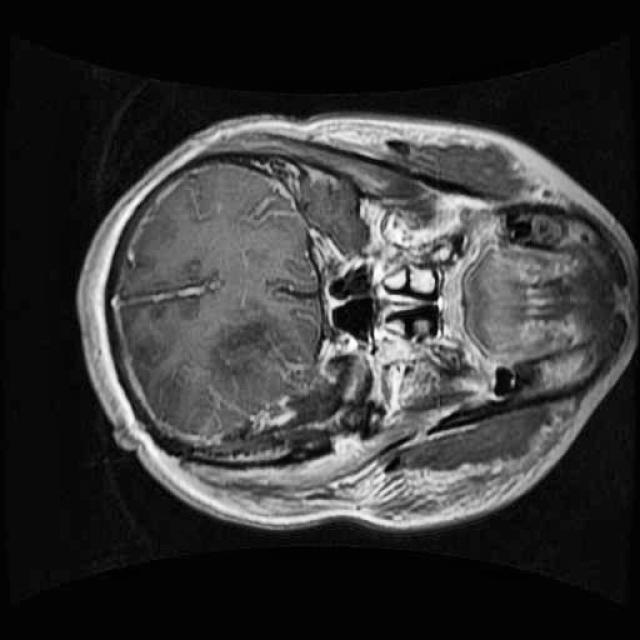Non-Tumor: (209, 352, 380, 451)
